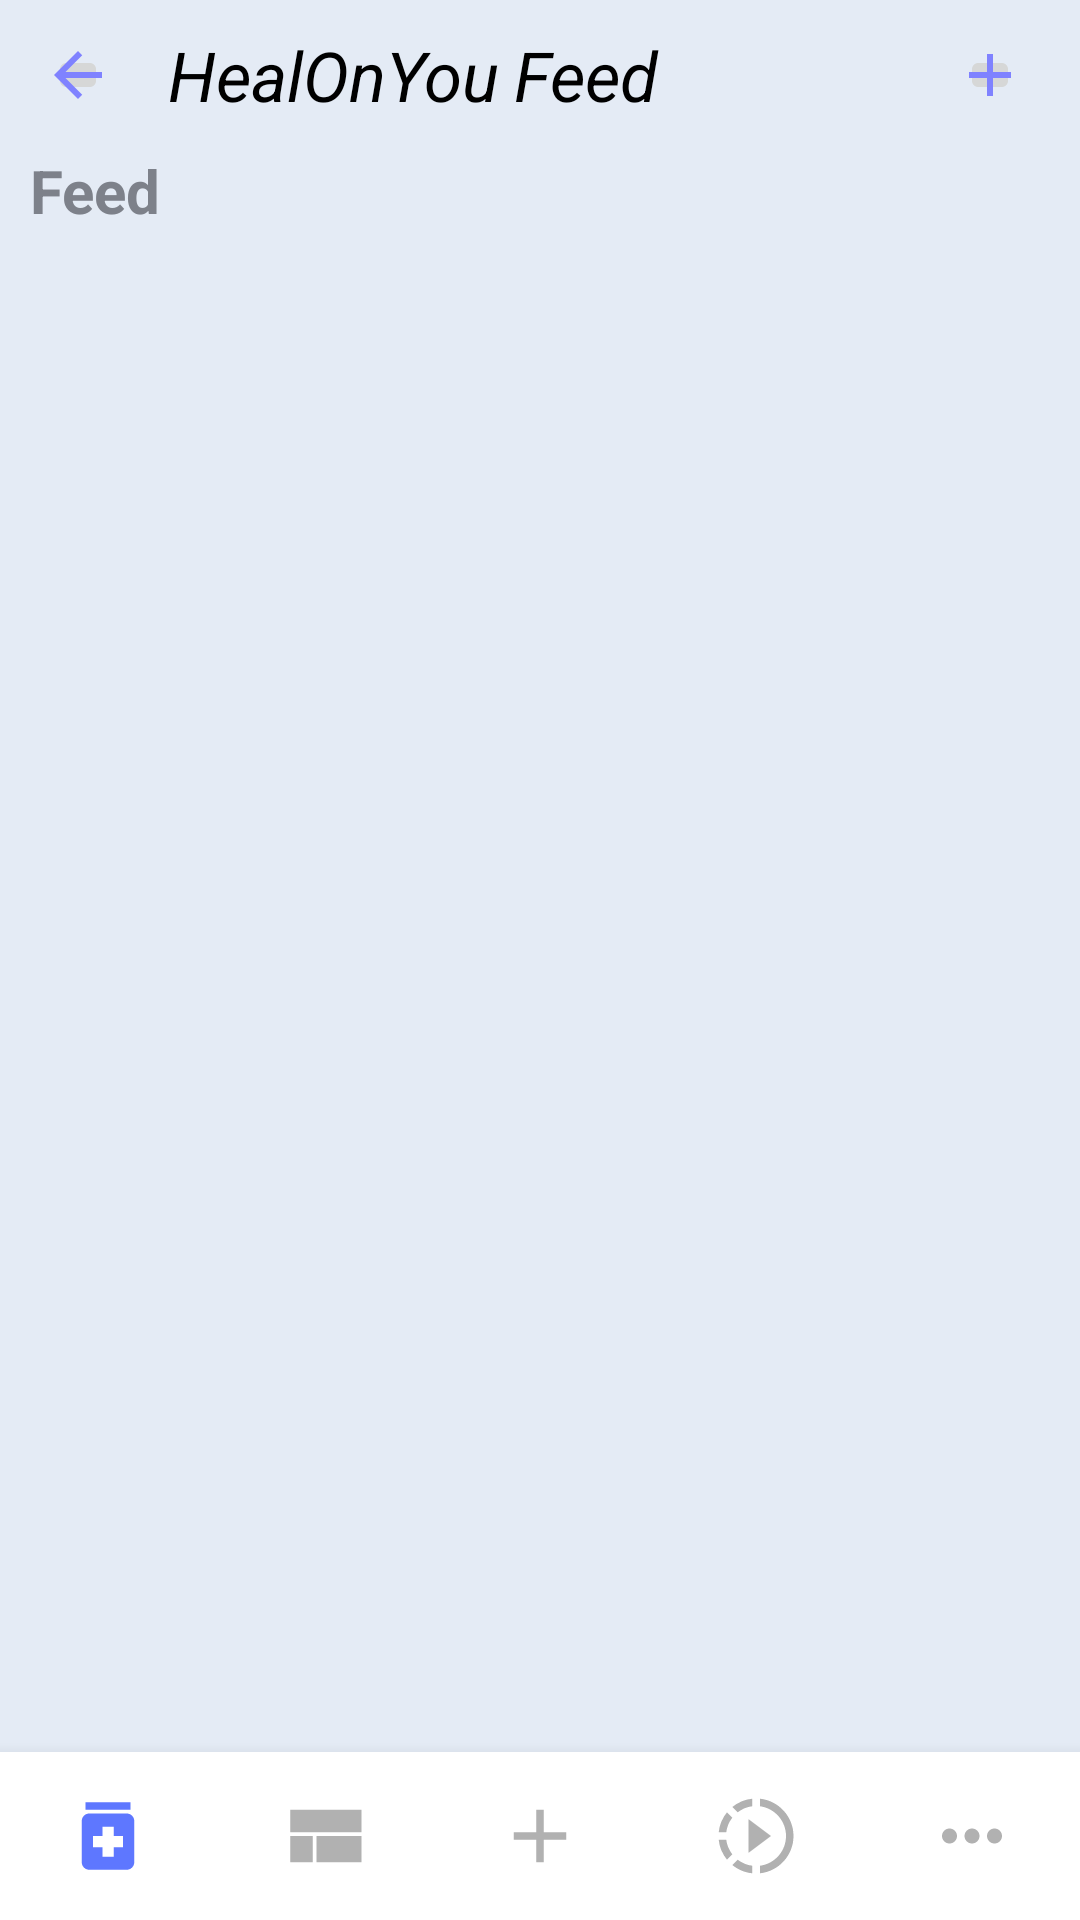

Icons on this 1080 × 1920 Android screen, each with its box as [x1=x1, y1=y1, x2=x2, y2=y2]:
add: [x1=969, y1=54, x2=1011, y2=96]
arrow back: [x1=54, y1=51, x2=102, y2=99]
